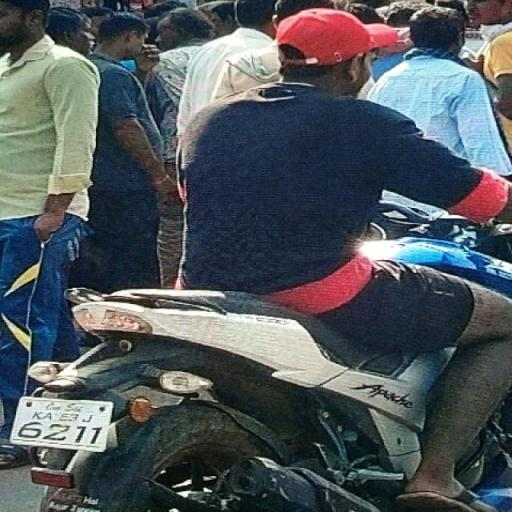bike: (14, 6, 512, 512)
numberplate: (13, 388, 114, 456)
withouthelmet: (278, 11, 371, 90)
